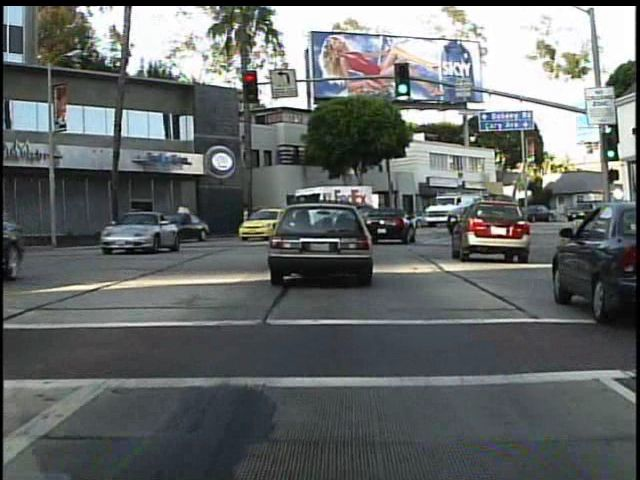person: (251, 203, 267, 235)
